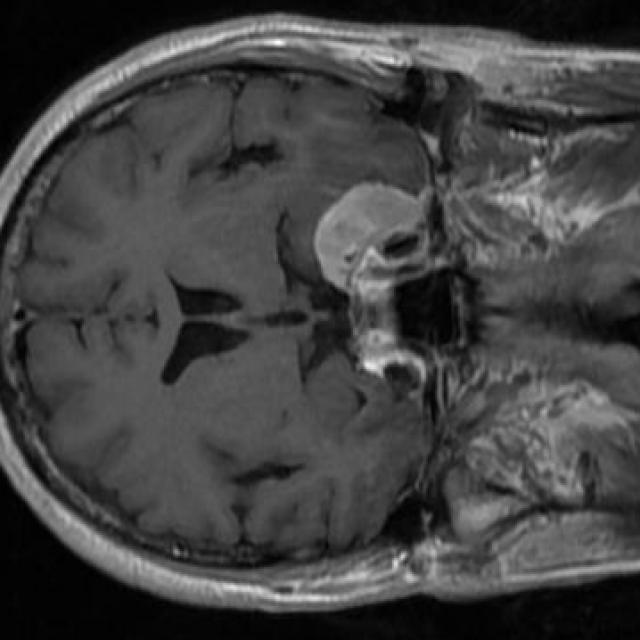meningioma: (314, 184, 426, 294)
